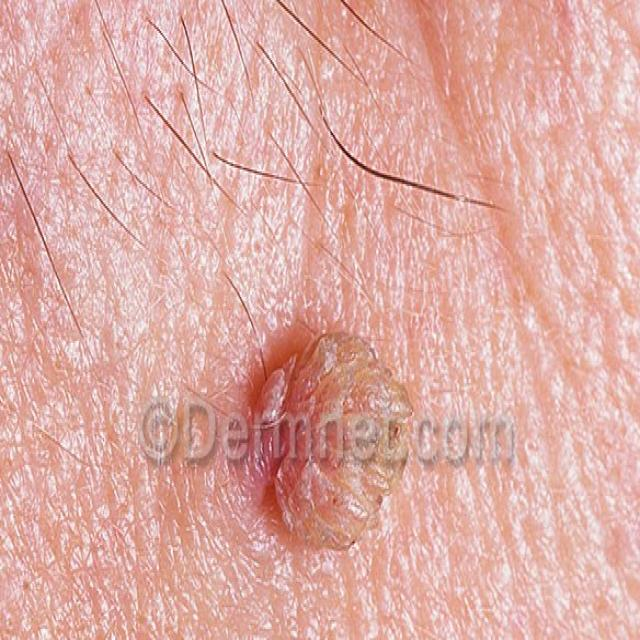Warts: (252, 319, 409, 552)
